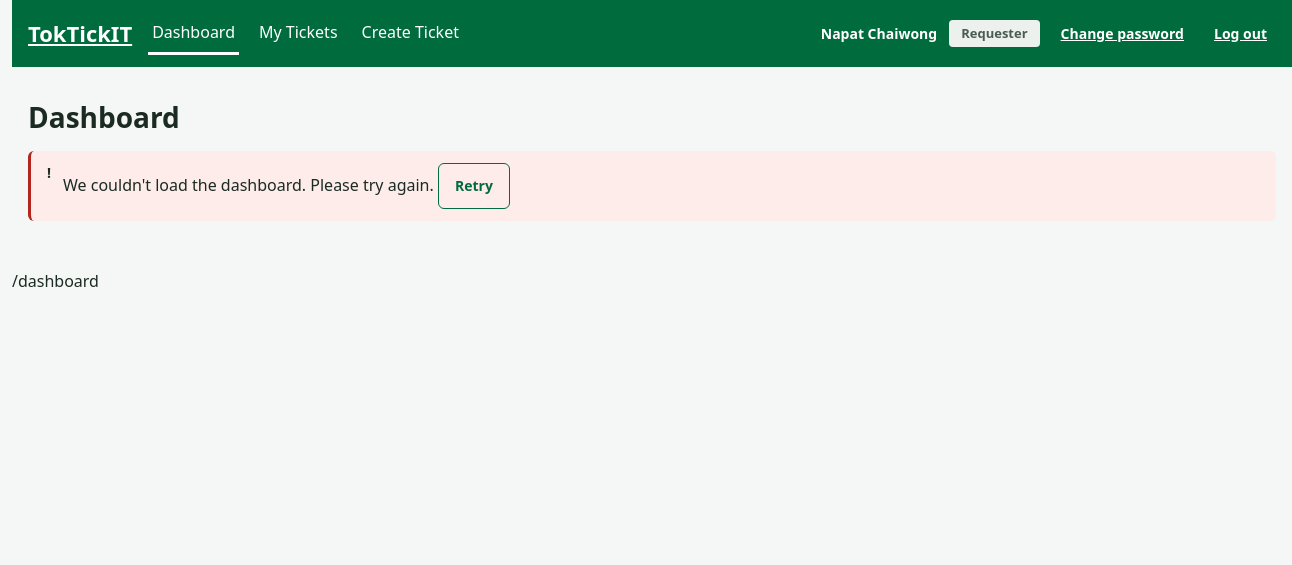
Scenario: UI-07 (AC-30) - loading, failure, and forbidden › shows the safe error callout on a 500, and Retry refetches
Expected: the element with test id "requester-dashboard-screen" is shown, x1=28 y1=99 x2=1276 y2=237
Expected: the message with test id "state-dashboard-failed" shows "We couldn't load the dashboard. Please try again.", x1=63 y1=174 x2=434 y2=196
Step 1. Click the button "Retry" → (474, 186), box x1=438 y1=163 x2=510 y2=209
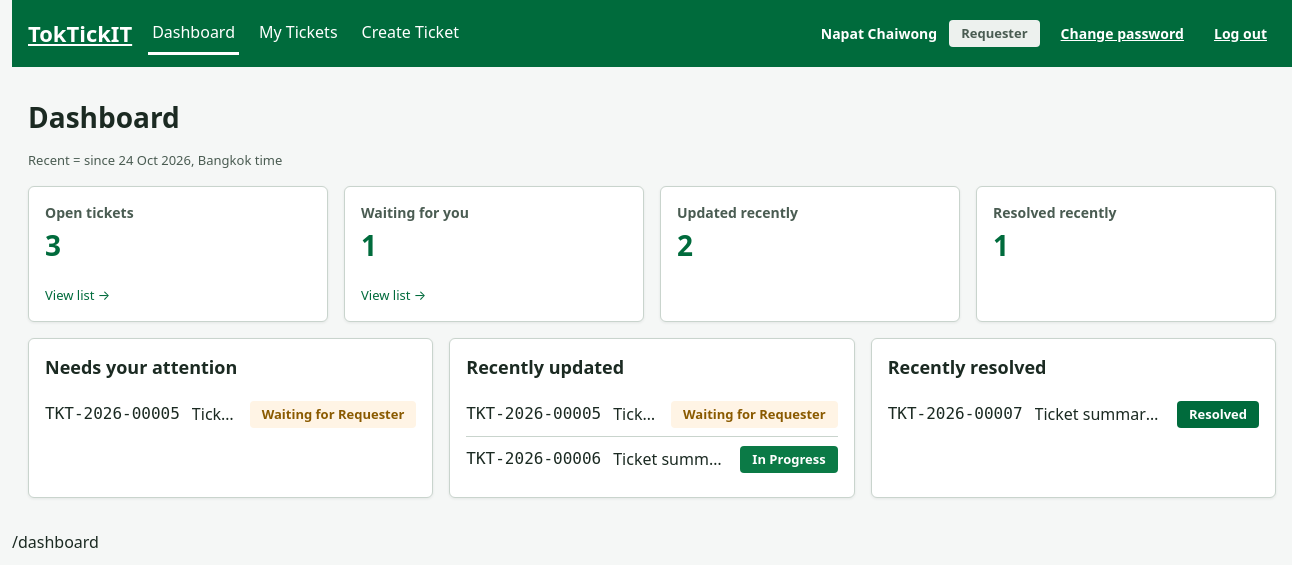
Expected: the link with test id "metric-openTickets" is shown, x1=28 y1=186 x2=328 y2=322
